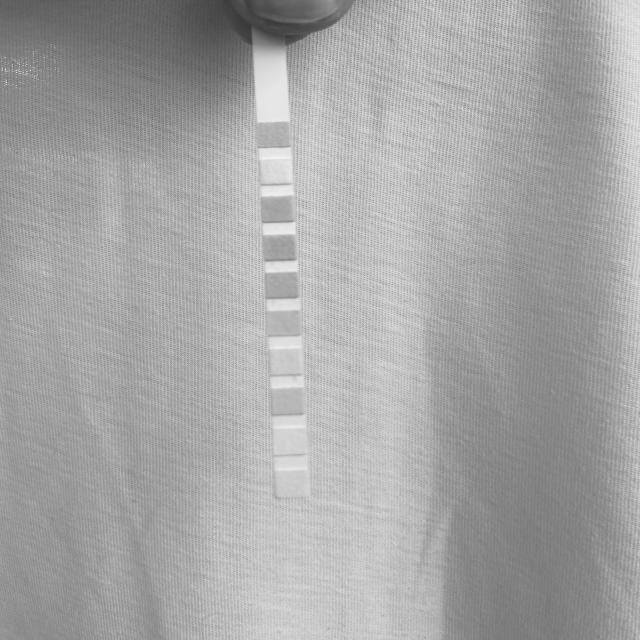Bilirubin: (260, 160, 293, 184)
Blood: (265, 273, 299, 297)
Glucose: (257, 123, 290, 147)
Ketone: (261, 198, 295, 222)
Leukocytes: (274, 472, 308, 496)
Nitrite: (273, 430, 307, 454)
Protein: (268, 350, 302, 374)
SpGravity: (264, 236, 297, 260)
Urobilinogen: (272, 389, 305, 414)
background: (0, 0, 640, 640)
pH: (267, 312, 301, 336)
strip: (254, 41, 309, 497)
